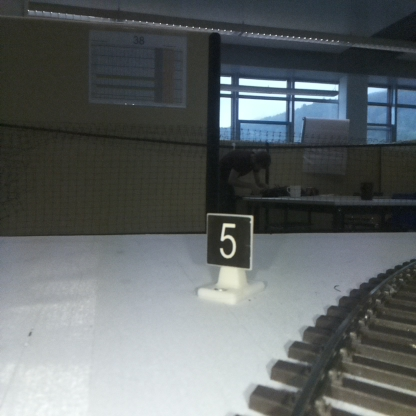black-stop-5: (207, 216, 250, 297)
